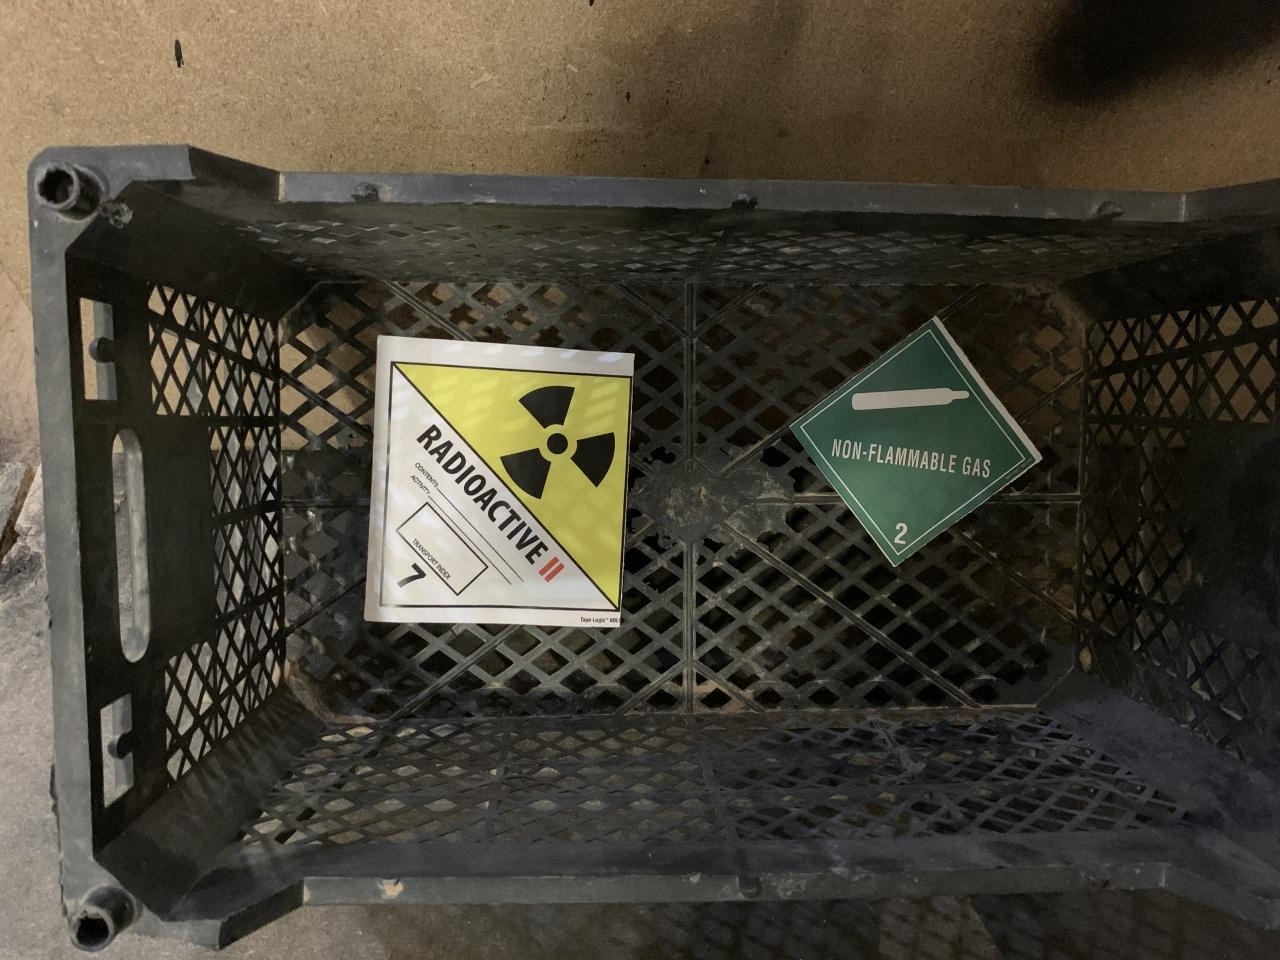non-flammable-gas: (793, 318, 1043, 569)
radioactive: (384, 351, 633, 611)
